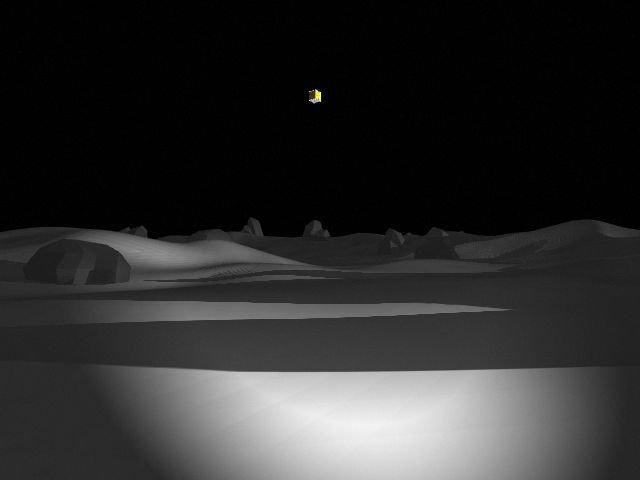cubesat: (303, 87, 325, 105)
